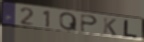1: (42, 10, 51, 28)
2: (19, 7, 36, 27)
K: (103, 17, 118, 37)
L: (123, 19, 139, 39)
P: (80, 14, 99, 33)
Q: (59, 12, 78, 32)
